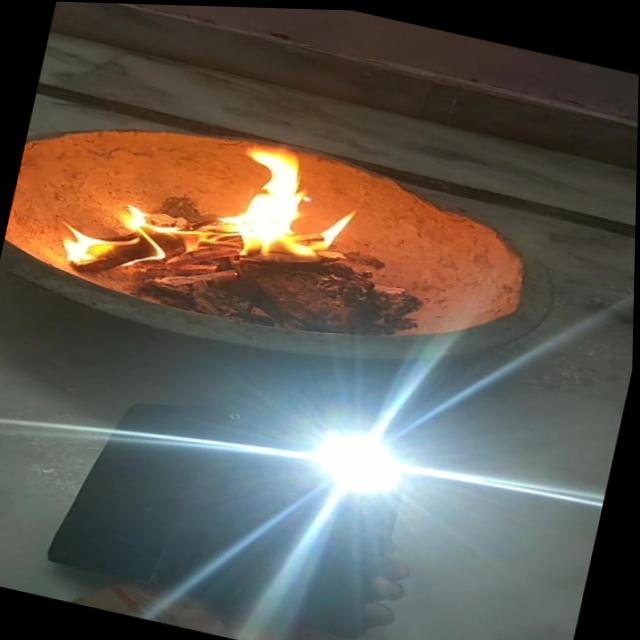fire: (199, 127, 379, 278), (51, 184, 189, 289)
